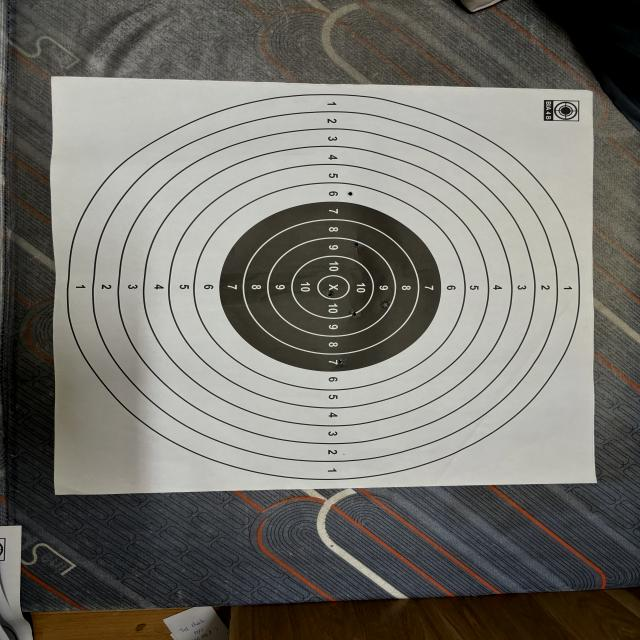bullet: (380, 300, 390, 309), (350, 309, 361, 317), (326, 290, 333, 297), (352, 240, 356, 248), (336, 360, 344, 364), (348, 192, 352, 196)
target: (49, 84, 600, 496)
